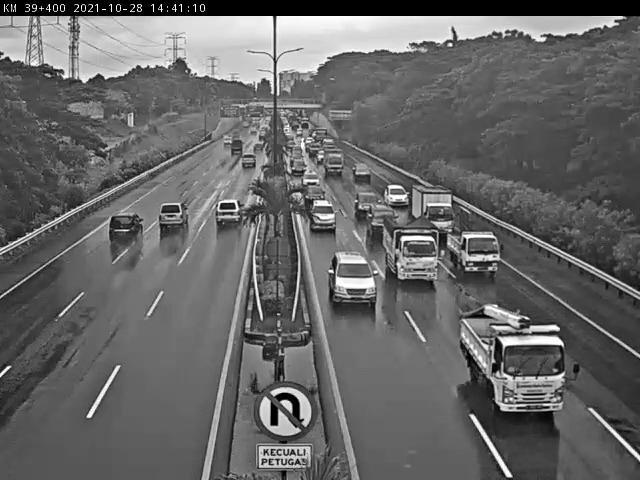car: (328, 251, 378, 305), (365, 204, 399, 239), (308, 196, 338, 233), (353, 191, 379, 218), (385, 184, 410, 207)
mid truck: (459, 304, 566, 413), (384, 211, 439, 280), (446, 226, 501, 274), (410, 184, 456, 235), (106, 213, 145, 246), (156, 202, 189, 232), (214, 197, 244, 228)
